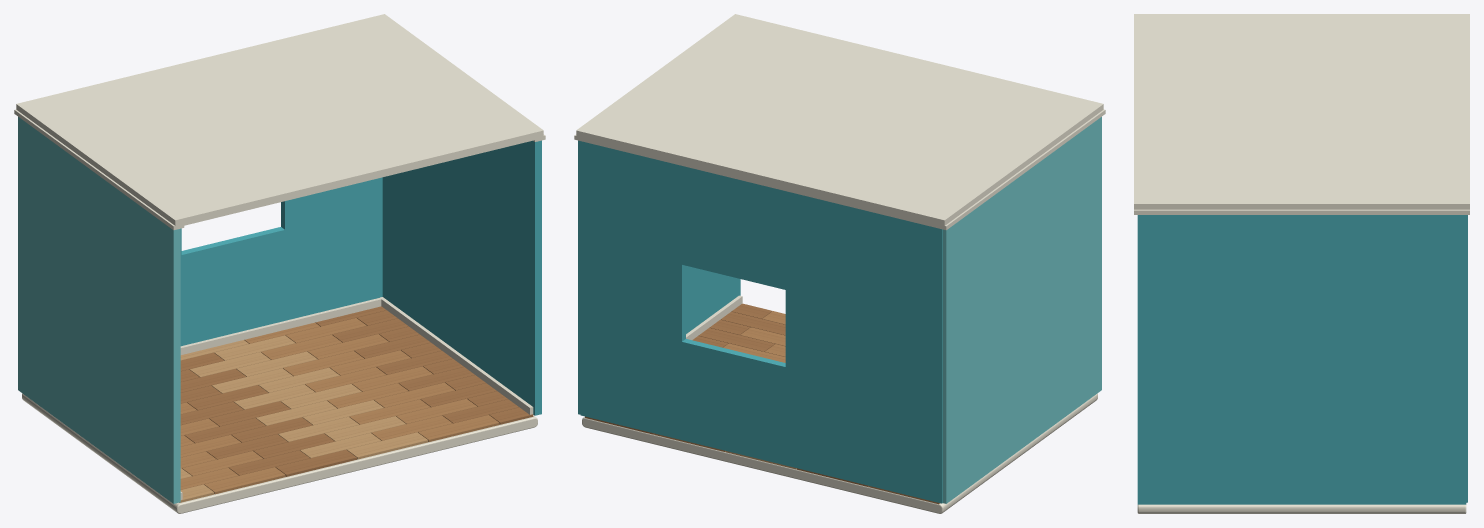
Rendered from room-shell.glb.
The picture shows the model from 3 angles, left to right: view 1: azimuth 30°, elevation 25°; view 2: azimuth 150°, elevation 25°; view 3: azimuth 270°, elevation 25°; orthographic projection. The views are drawn at different scales.
Visible parts, largest first — view 1: room-shell; view 2: room-shell; view 3: room-shell.
Part boxes in pixels (x1,y1,x2,y2): room-shell: [14, 14, 545, 513]; room-shell: [574, 14, 1105, 513]; room-shell: [1134, 14, 1469, 513].
Bounding box in the file's own units: 7.72 × 5.89 × 5.72.
Materials: 6 (3 with a texture image).
